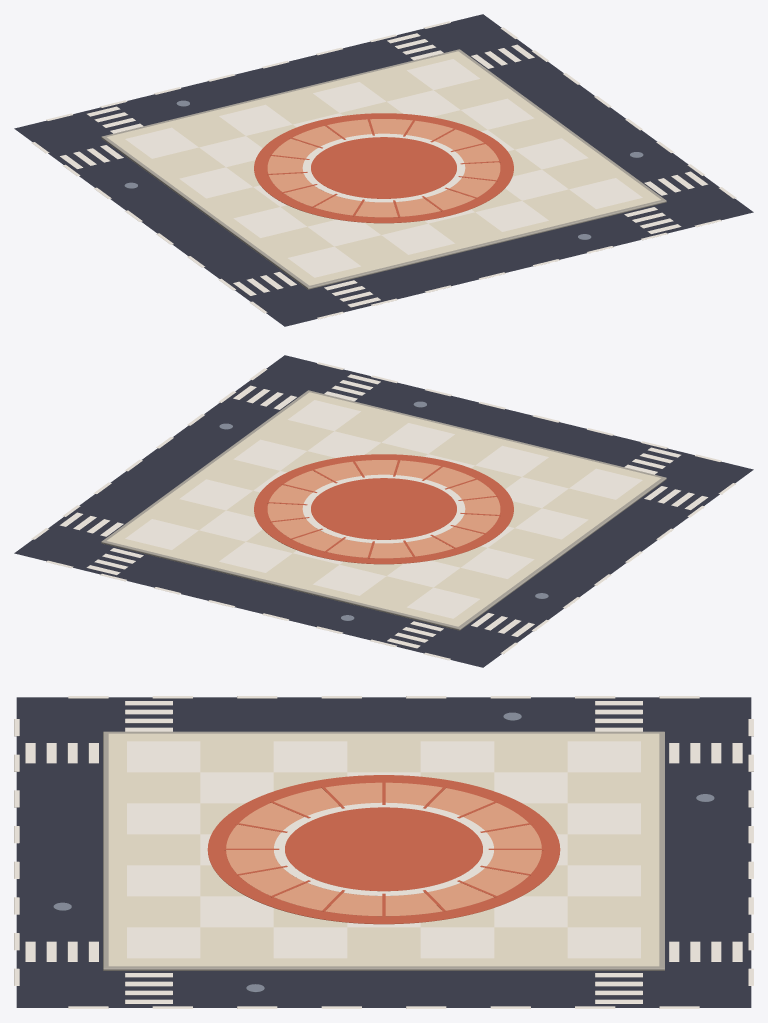
The model's file is tile_plaza.glb.
3 renders of one model, top to bottom at view 1: azimuth 30°, elevation 25°; view 2: azimuth 150°, elevation 25°; view 3: azimuth 270°, elevation 25°, orthographic. The views are drawn at different scales.
Visible parts, largest first — view 1: tile_plaza; view 2: tile_plaza; view 3: tile_plaza.
Boxes of the visible parts, left/top/right/bottom form: tile_plaza: left=14, top=14, right=753, bottom=326; tile_plaza: left=14, top=355, right=753, bottom=667; tile_plaza: left=14, top=696, right=753, bottom=1008.
Size of the model in its own units: 40.3 by 0.202 by 40.3.
Materials: 1 (1 with a texture image).
